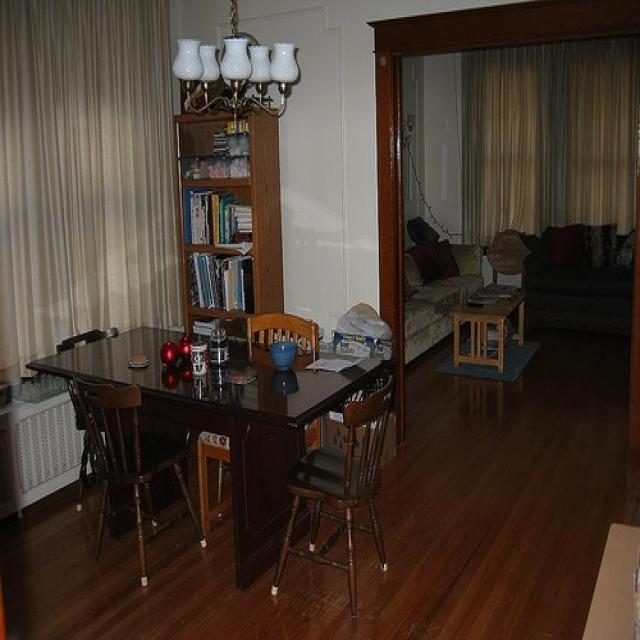chair: (272, 372, 403, 621), (196, 308, 326, 556), (92, 380, 210, 590), (52, 324, 124, 522)
diningtable: (28, 322, 395, 586)
sofa: (518, 223, 640, 339), (402, 240, 486, 364)
